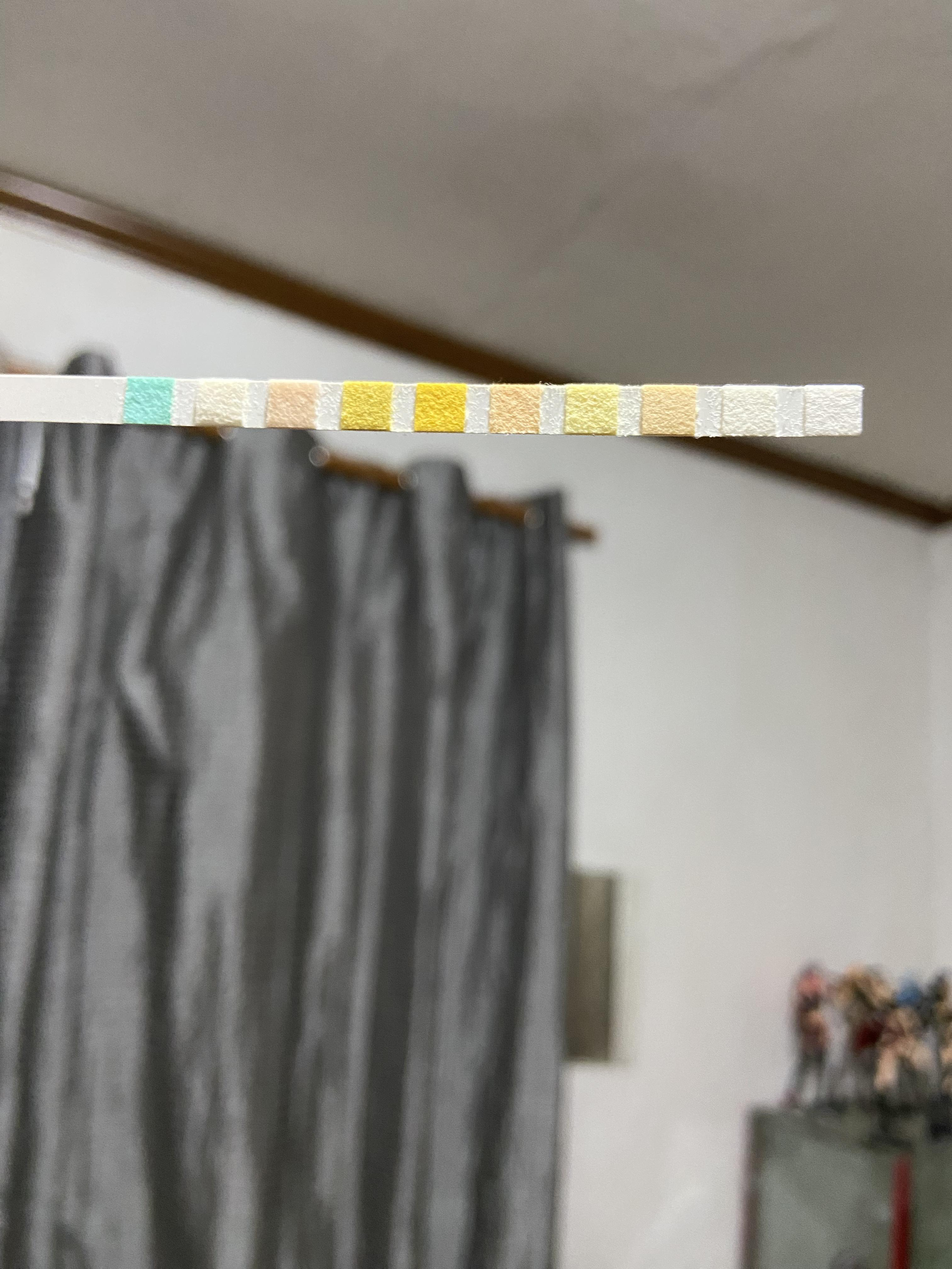Bilirubin: (200, 382, 241, 424)
Blood: (418, 389, 462, 429)
Glucose: (129, 380, 167, 420)
Ketone: (272, 386, 312, 424)
Leukocytes: (809, 388, 858, 430)
Nitrite: (726, 389, 774, 434)
Protein: (569, 389, 614, 430)
SpGravity: (346, 386, 386, 427)
Urobilinogen: (646, 389, 692, 431)
pH: (494, 389, 536, 432)
strip: (0, 375, 863, 436)
